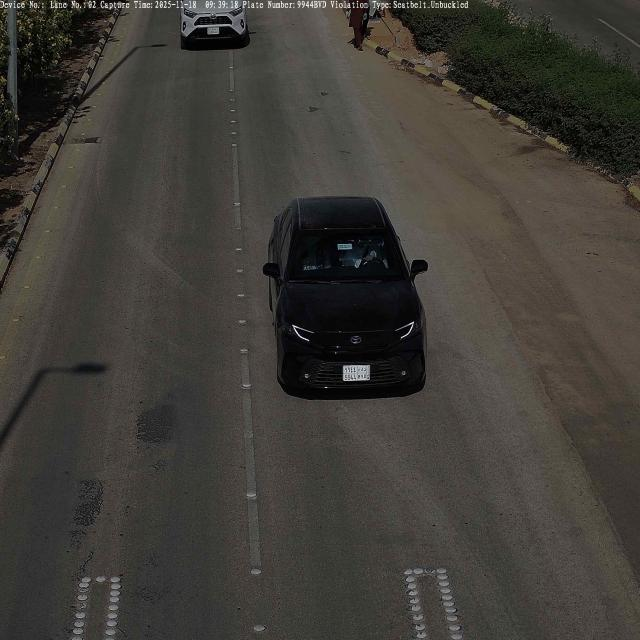person_with_seatbelt: (341, 241, 379, 269)
